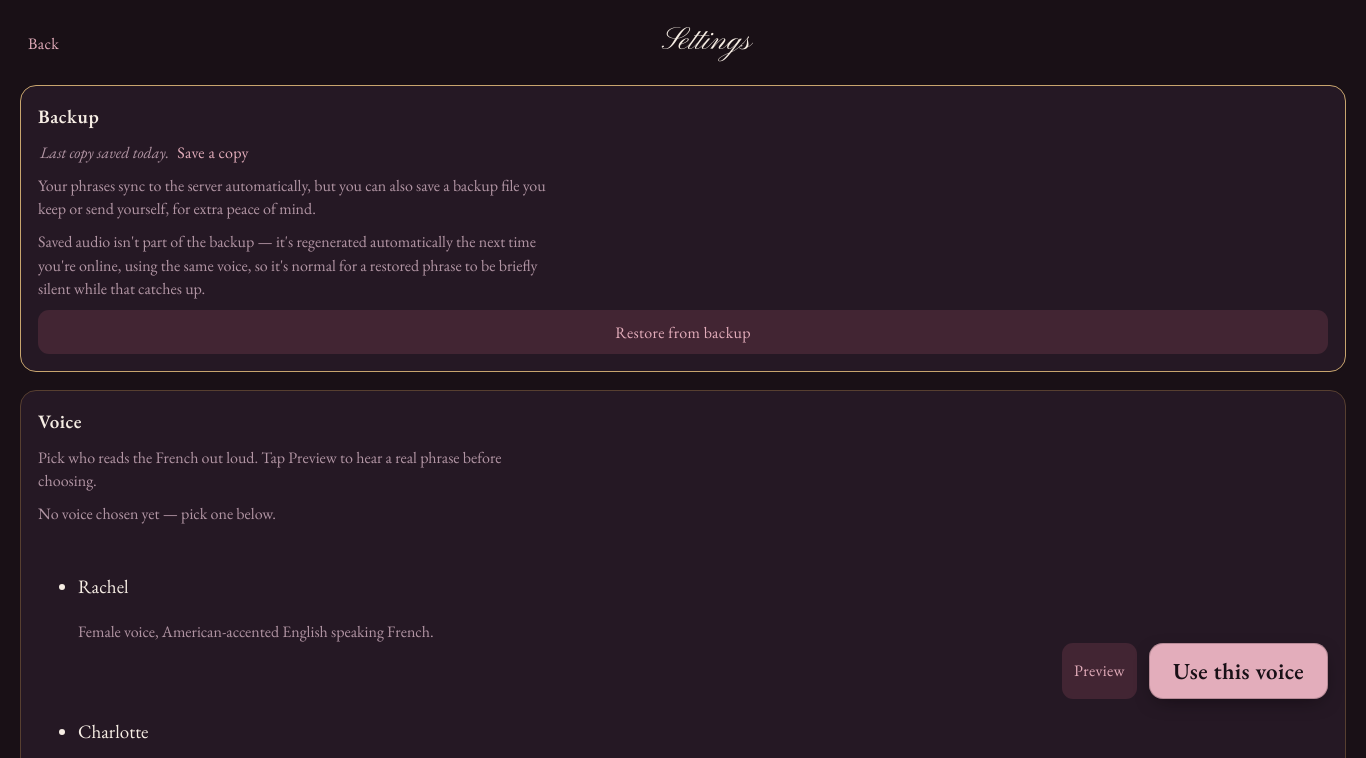
Test: SettingsScreen › voice picker › says to wait, not that the credit is gone, when the server itself is rate-limiting
The image size is (1366, 758).
Step 1. Click the button with test id "voice-preview-voice-rachel" → click(1100, 671), box x1=1062 y1=643 x2=1137 y2=699
(page scrolled)
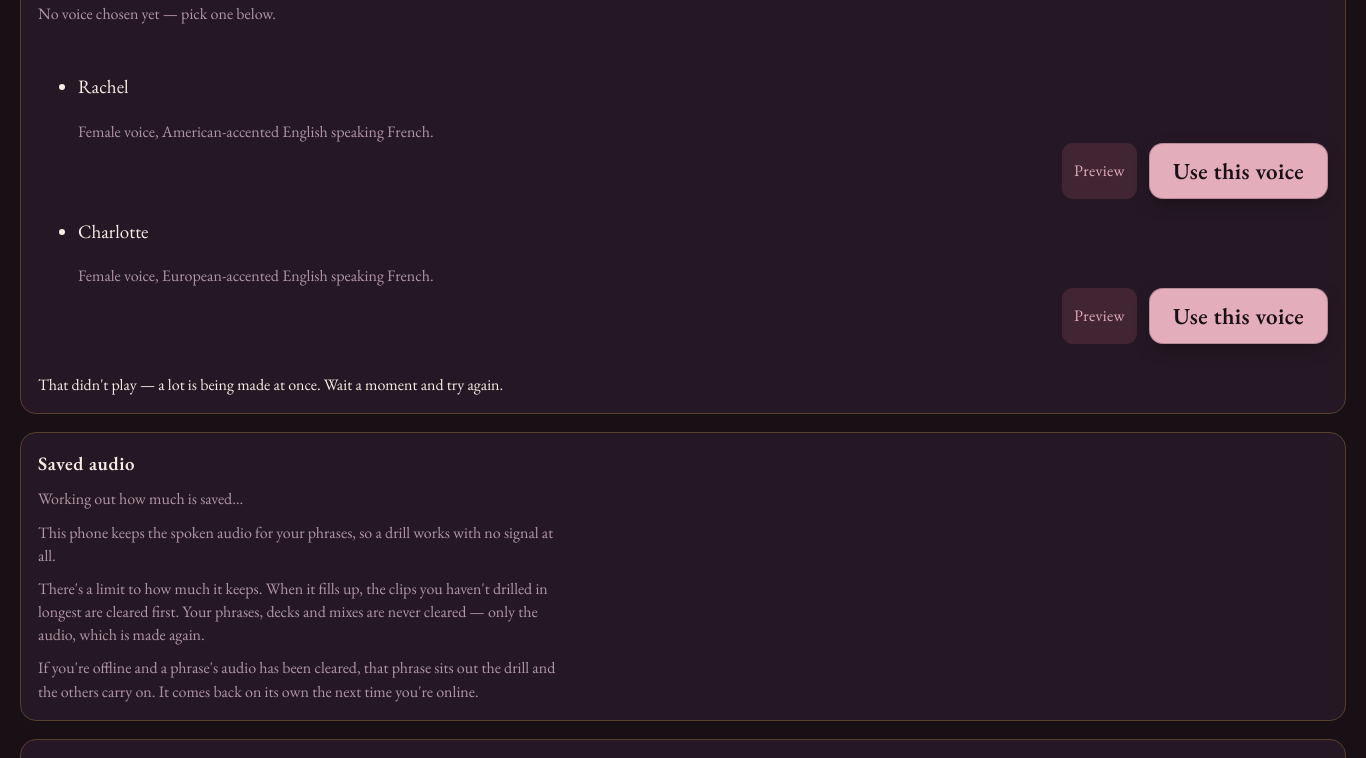
Expected: the text with test id "voice-preview-error" reads "That didn't play — a lot is being made at once. Wait a moment and try again.", x1=38 y1=374 x2=503 y2=395
